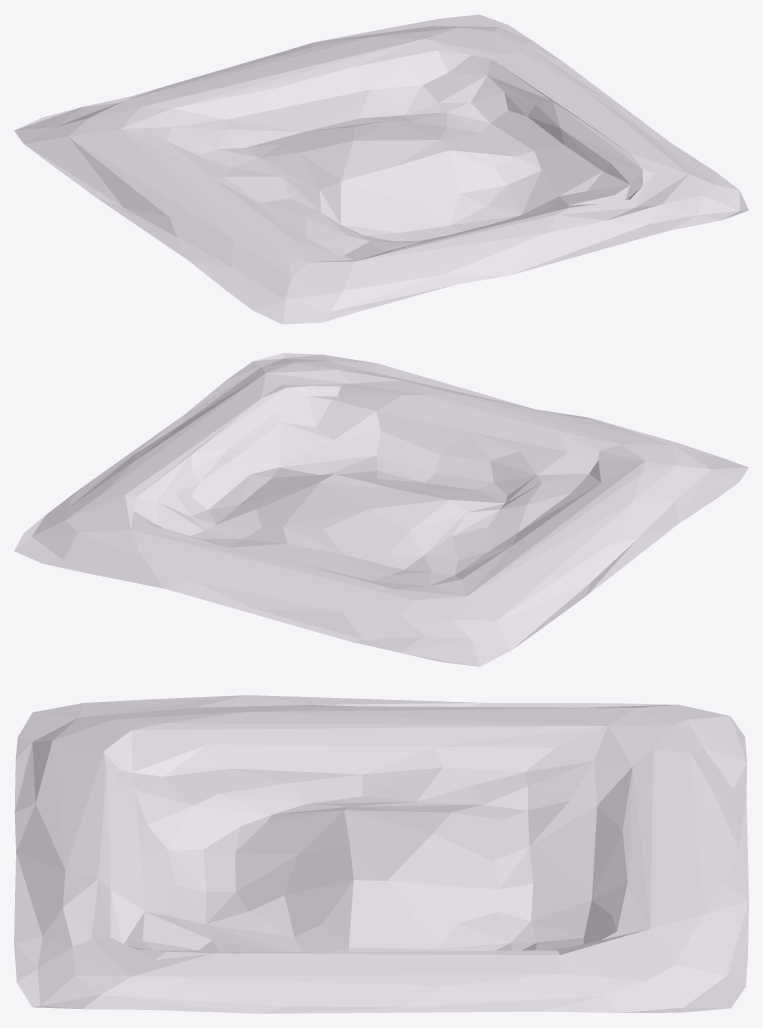
The model's file is groundmine-marble.obj.
The picture shows the model from 3 angles, top to bottom: view 1: azimuth 30°, elevation 25°; view 2: azimuth 150°, elevation 25°; view 3: azimuth 270°, elevation 25°; orthographic projection. The views are drawn at different scales.
Parts seen in each view (by area): view 1: Plane; view 2: Plane; view 3: Plane.
Part boxes in pixels (x1=…): Plane: x1=14, y1=14, x2=748, y2=324; Plane: x1=14, y1=353, x2=748, y2=666; Plane: x1=14, y1=695, x2=748, y2=1013.
Size of the model in its own units: 1.98 by 0.1436 by 1.98.
